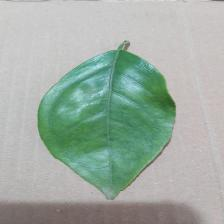greening: (34, 51, 182, 187)
